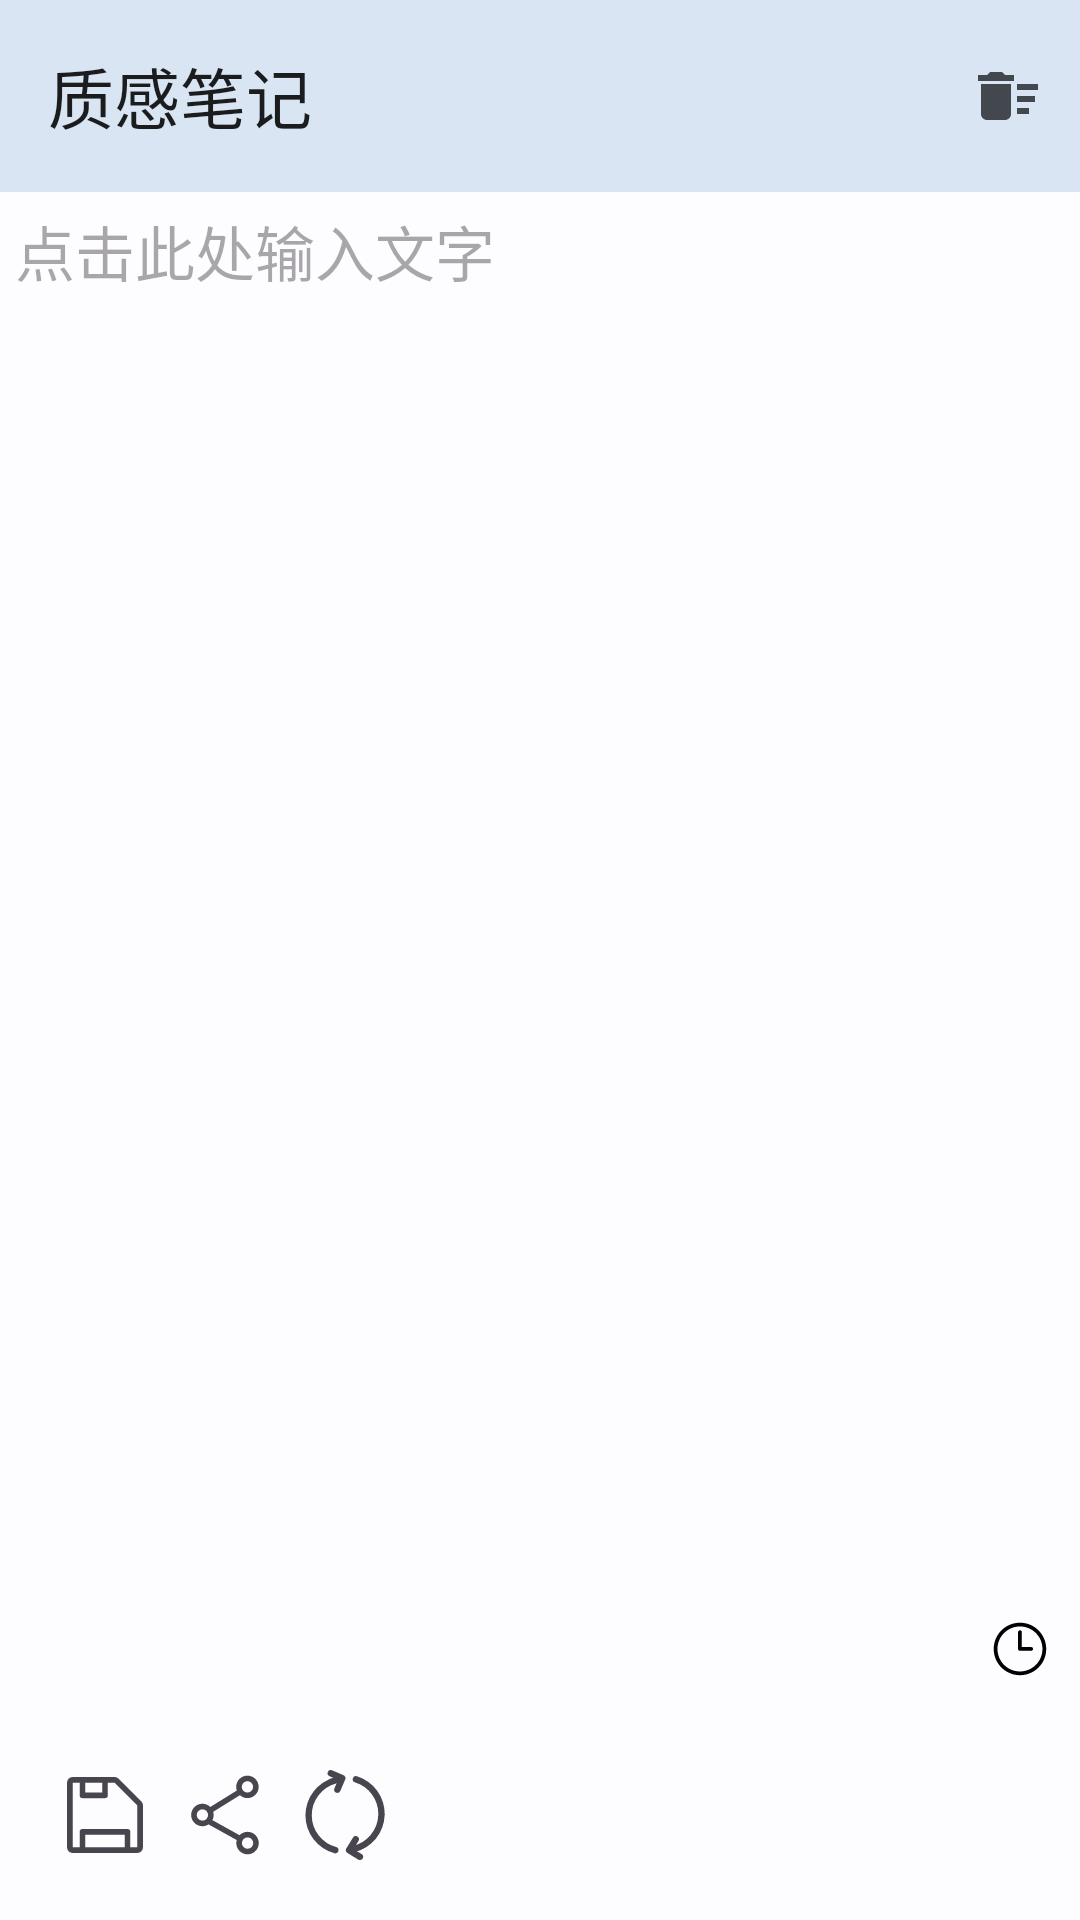

Where to tap for icons on this 1080×1920 app screen, as [x,y]:
reset: [345,1815]
save: [105,1815]
share: [225,1815]
